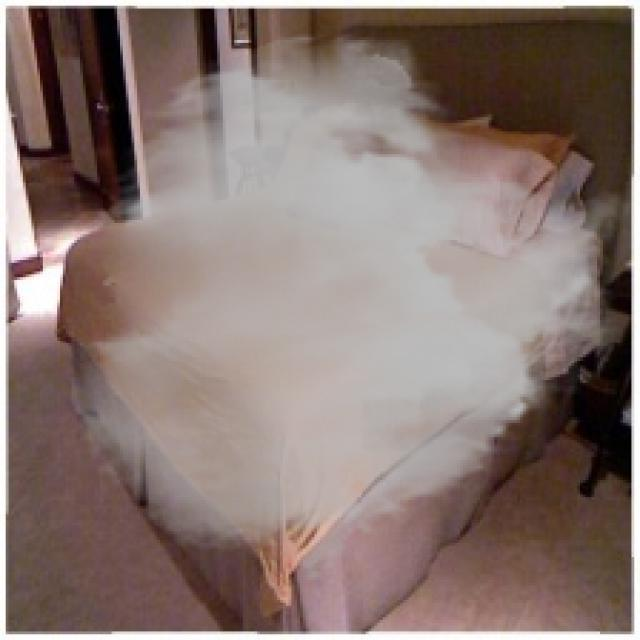Smoke: (66, 28, 634, 583)
